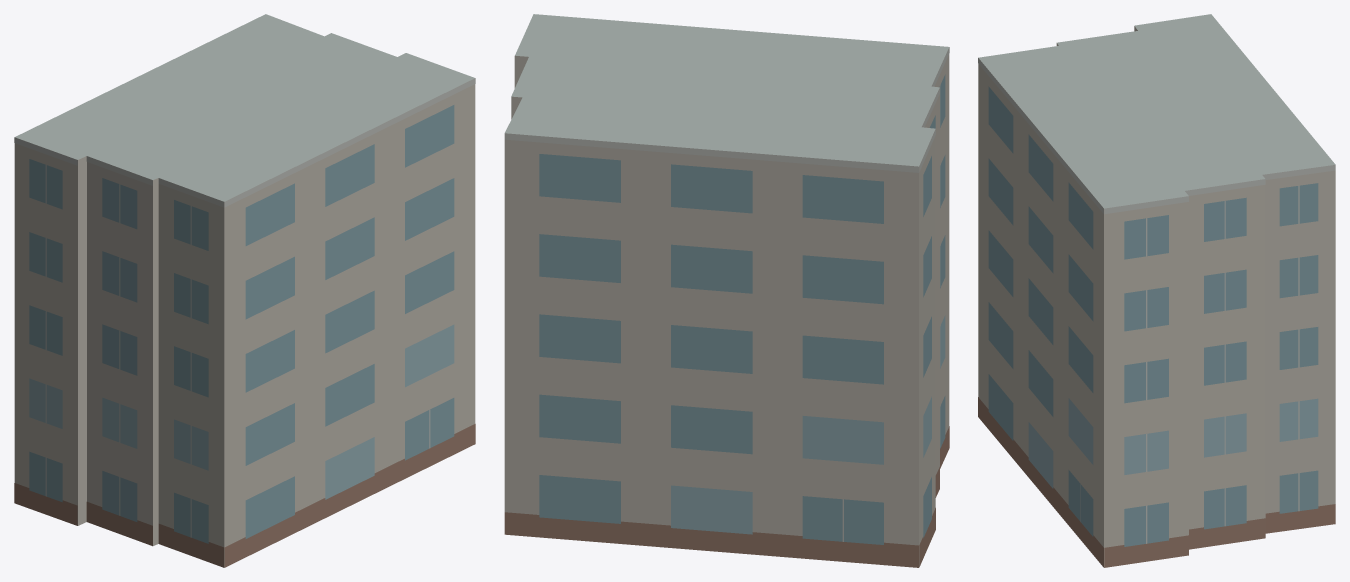
File: survey-upis-32881924.glb
3 views of the same model, side by side, from view 1: azimuth 30°, elevation 25°; view 2: azimuth 150°, elevation 25°; view 3: azimuth 270°, elevation 25° (orthographic). The views are drawn at different scales.
Visible parts, largest first — view 1: survey-upis-32881924.tmp; view 2: survey-upis-32881924.tmp; view 3: survey-upis-32881924.tmp.
Boxes of the visible parts, x1=… form: survey-upis-32881924.tmp: x1=14, y1=14, x2=475, y2=567; survey-upis-32881924.tmp: x1=504, y1=14, x2=949, y2=567; survey-upis-32881924.tmp: x1=978, y1=14, x2=1335, y2=567.
Bounding box in the file's own units: 17.78 × 15.3 × 13.81.
